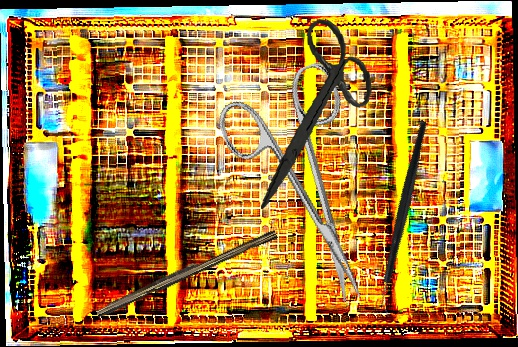Chopper: (320, 119, 491, 318)
Iris Scissors: (210, 59, 407, 322), (242, 14, 383, 210)
Scalpel Handle: (94, 224, 278, 321)
